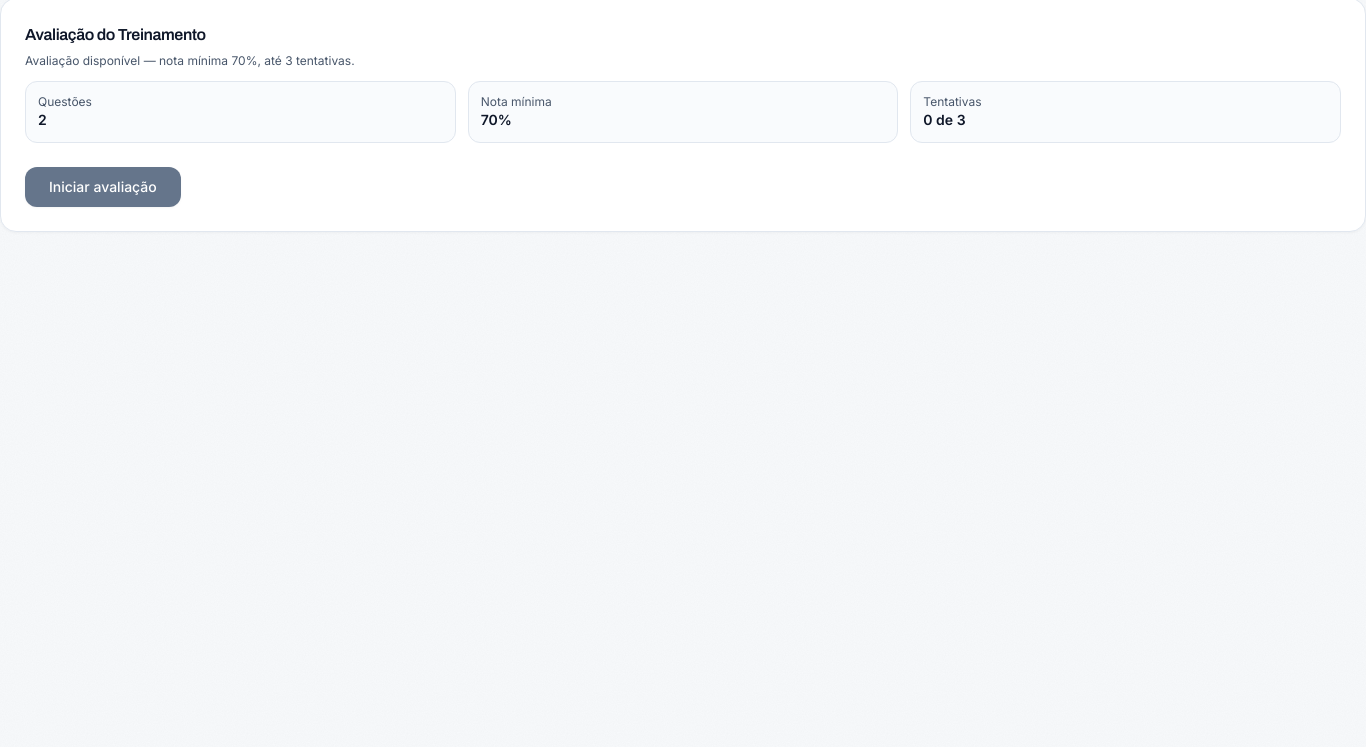
it: ETAPA 9.4 — QuizPlayer: Avaliação, Correção Server-Side e Gabarito › g) Usuário reprovado sem tentativas restantes vê estado "Tentativas esgotadas"
Click the button "Iniciar avaliação" at (103, 187), box left=25, top=167, right=181, bottom=207
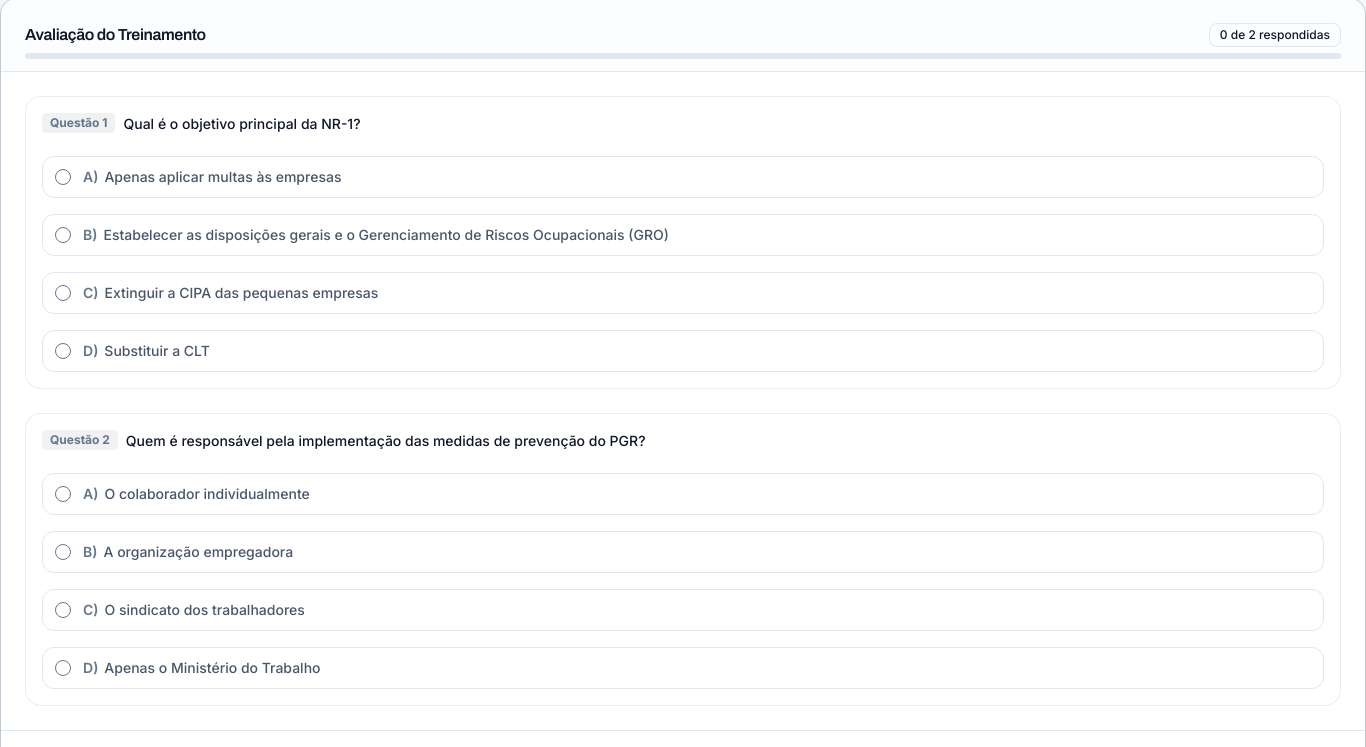
Check: the text "Qual é o objetivo principal da NR-1?" is shown, box left=124, top=113, right=361, bottom=136
Click the text "A)Apenas aplicar multas às empresas" at (212, 176), box left=83, top=168, right=341, bottom=185
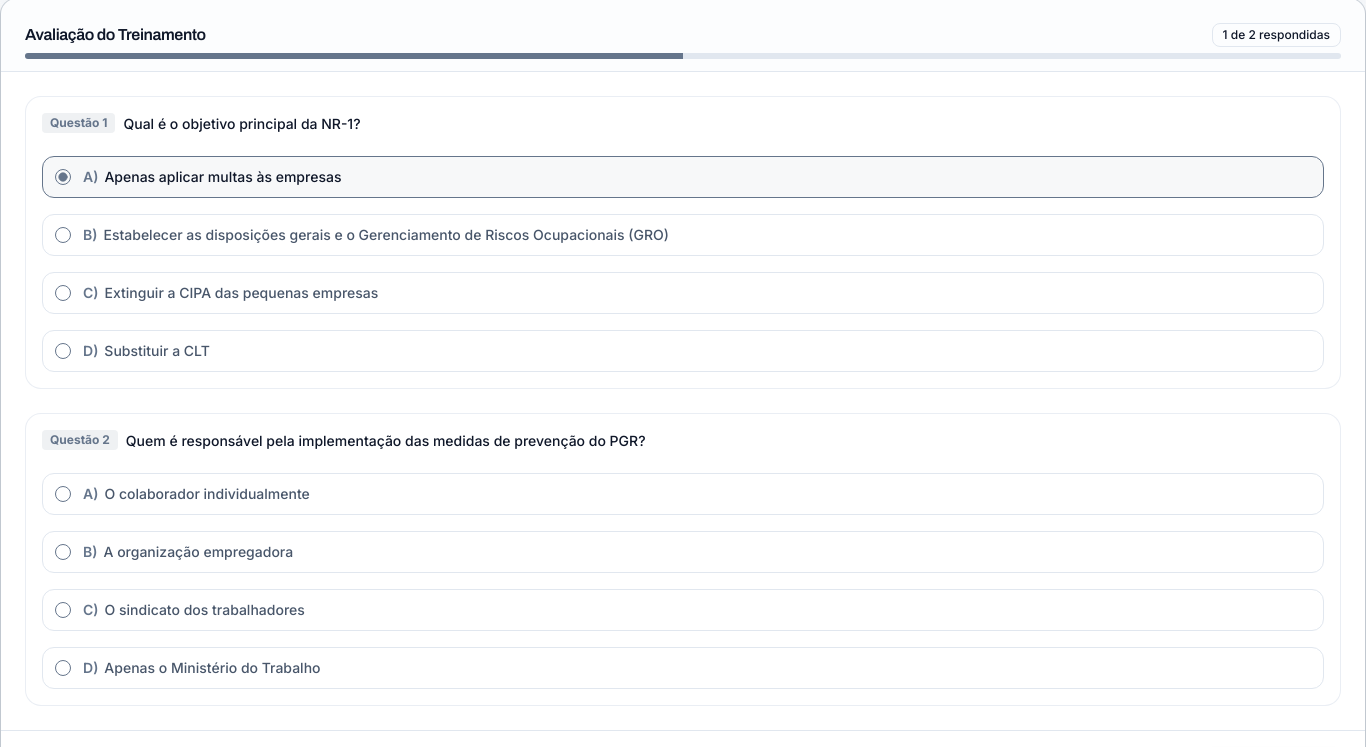
Click the text "C)O sindicato dos trabalhadores" at (194, 609), box left=83, top=600, right=305, bottom=618
(page scrolled)
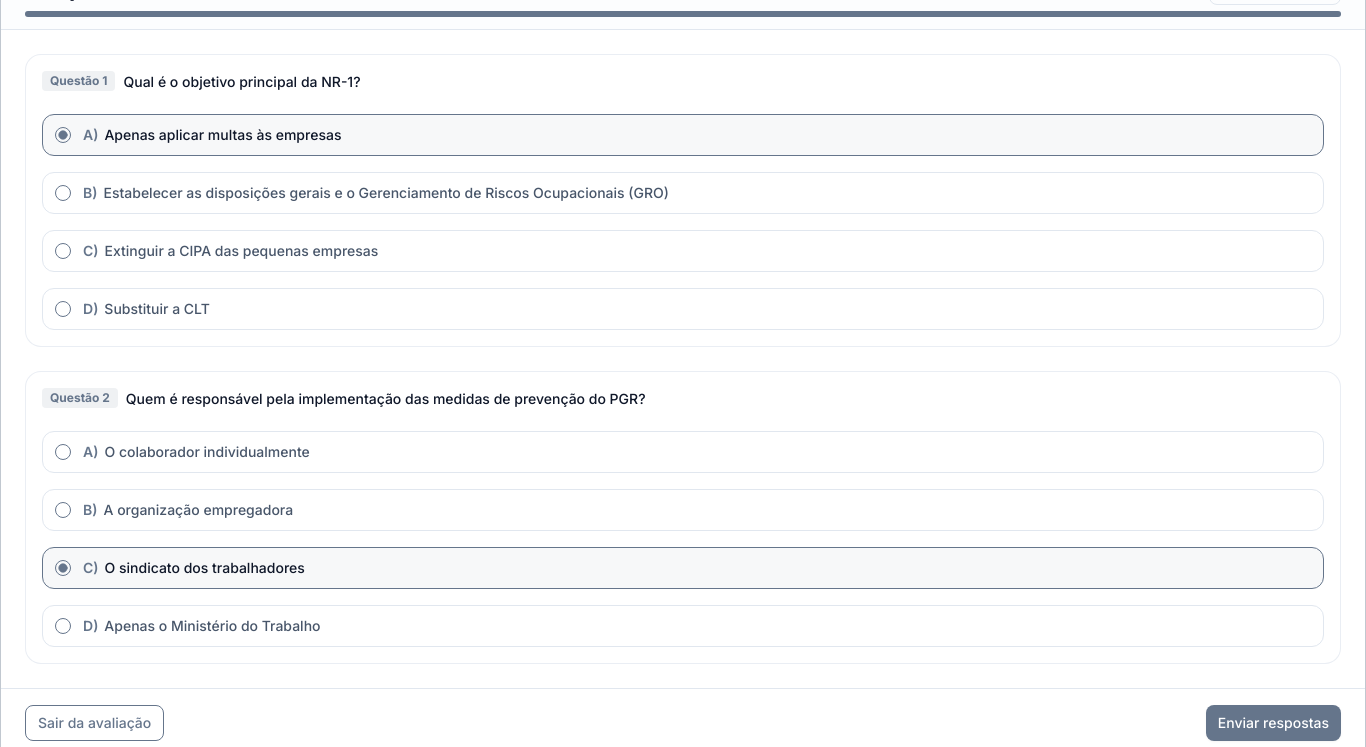
Click the button "Enviar respostas" at (1273, 722), box left=1206, top=704, right=1341, bottom=740
(page scrolled)
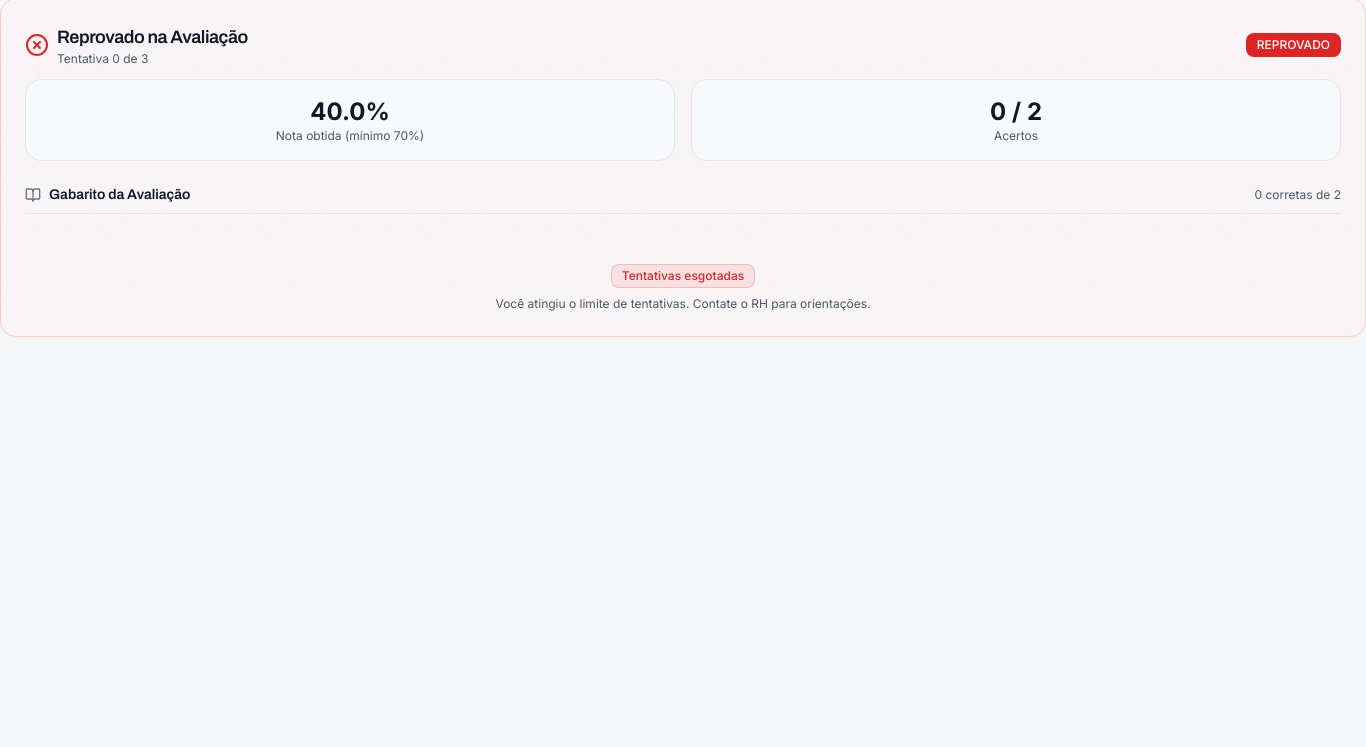
Check: the text "Tentativas esgotadas" is shown, box left=611, top=264, right=755, bottom=288
Check: the text "Contate o RH para orientações" is shown, box left=496, top=296, right=870, bottom=311
